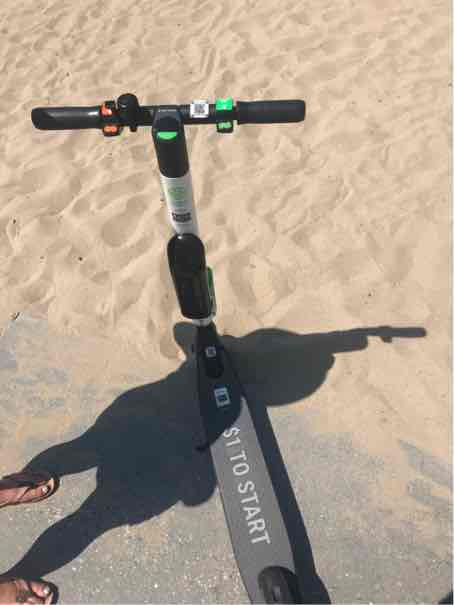scooter: (31, 100, 345, 605)
